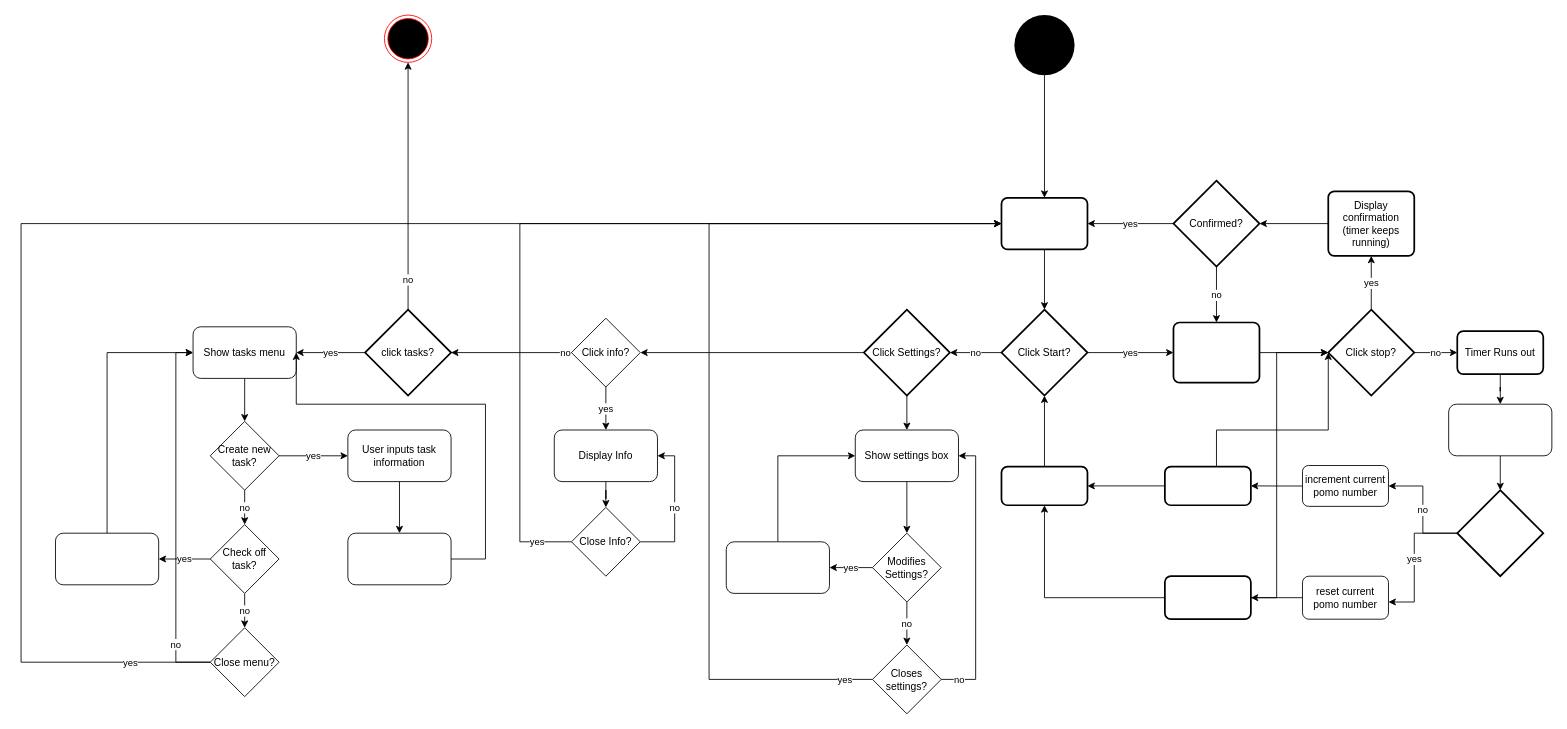
Image size: 1567x729. Some labels were removed from this diagram. Each missing label, with the centre of its shape:
"break ends" goes at [1044,485].
"Display Site" goes at [1044,223].
"Increment event pomo number" goes at [1500,429].
"Last pomo complete?" goes at [1500,533].
"long break runs" goes at [1207,597].
"Move task to completed section" goes at [107,558].
"pomo runs" goes at [1216,352].
"short break runs" goes at [1207,485].
"Task Added to List" goes at [399,558].
"Update indicators accordingly" goes at [777,567].
